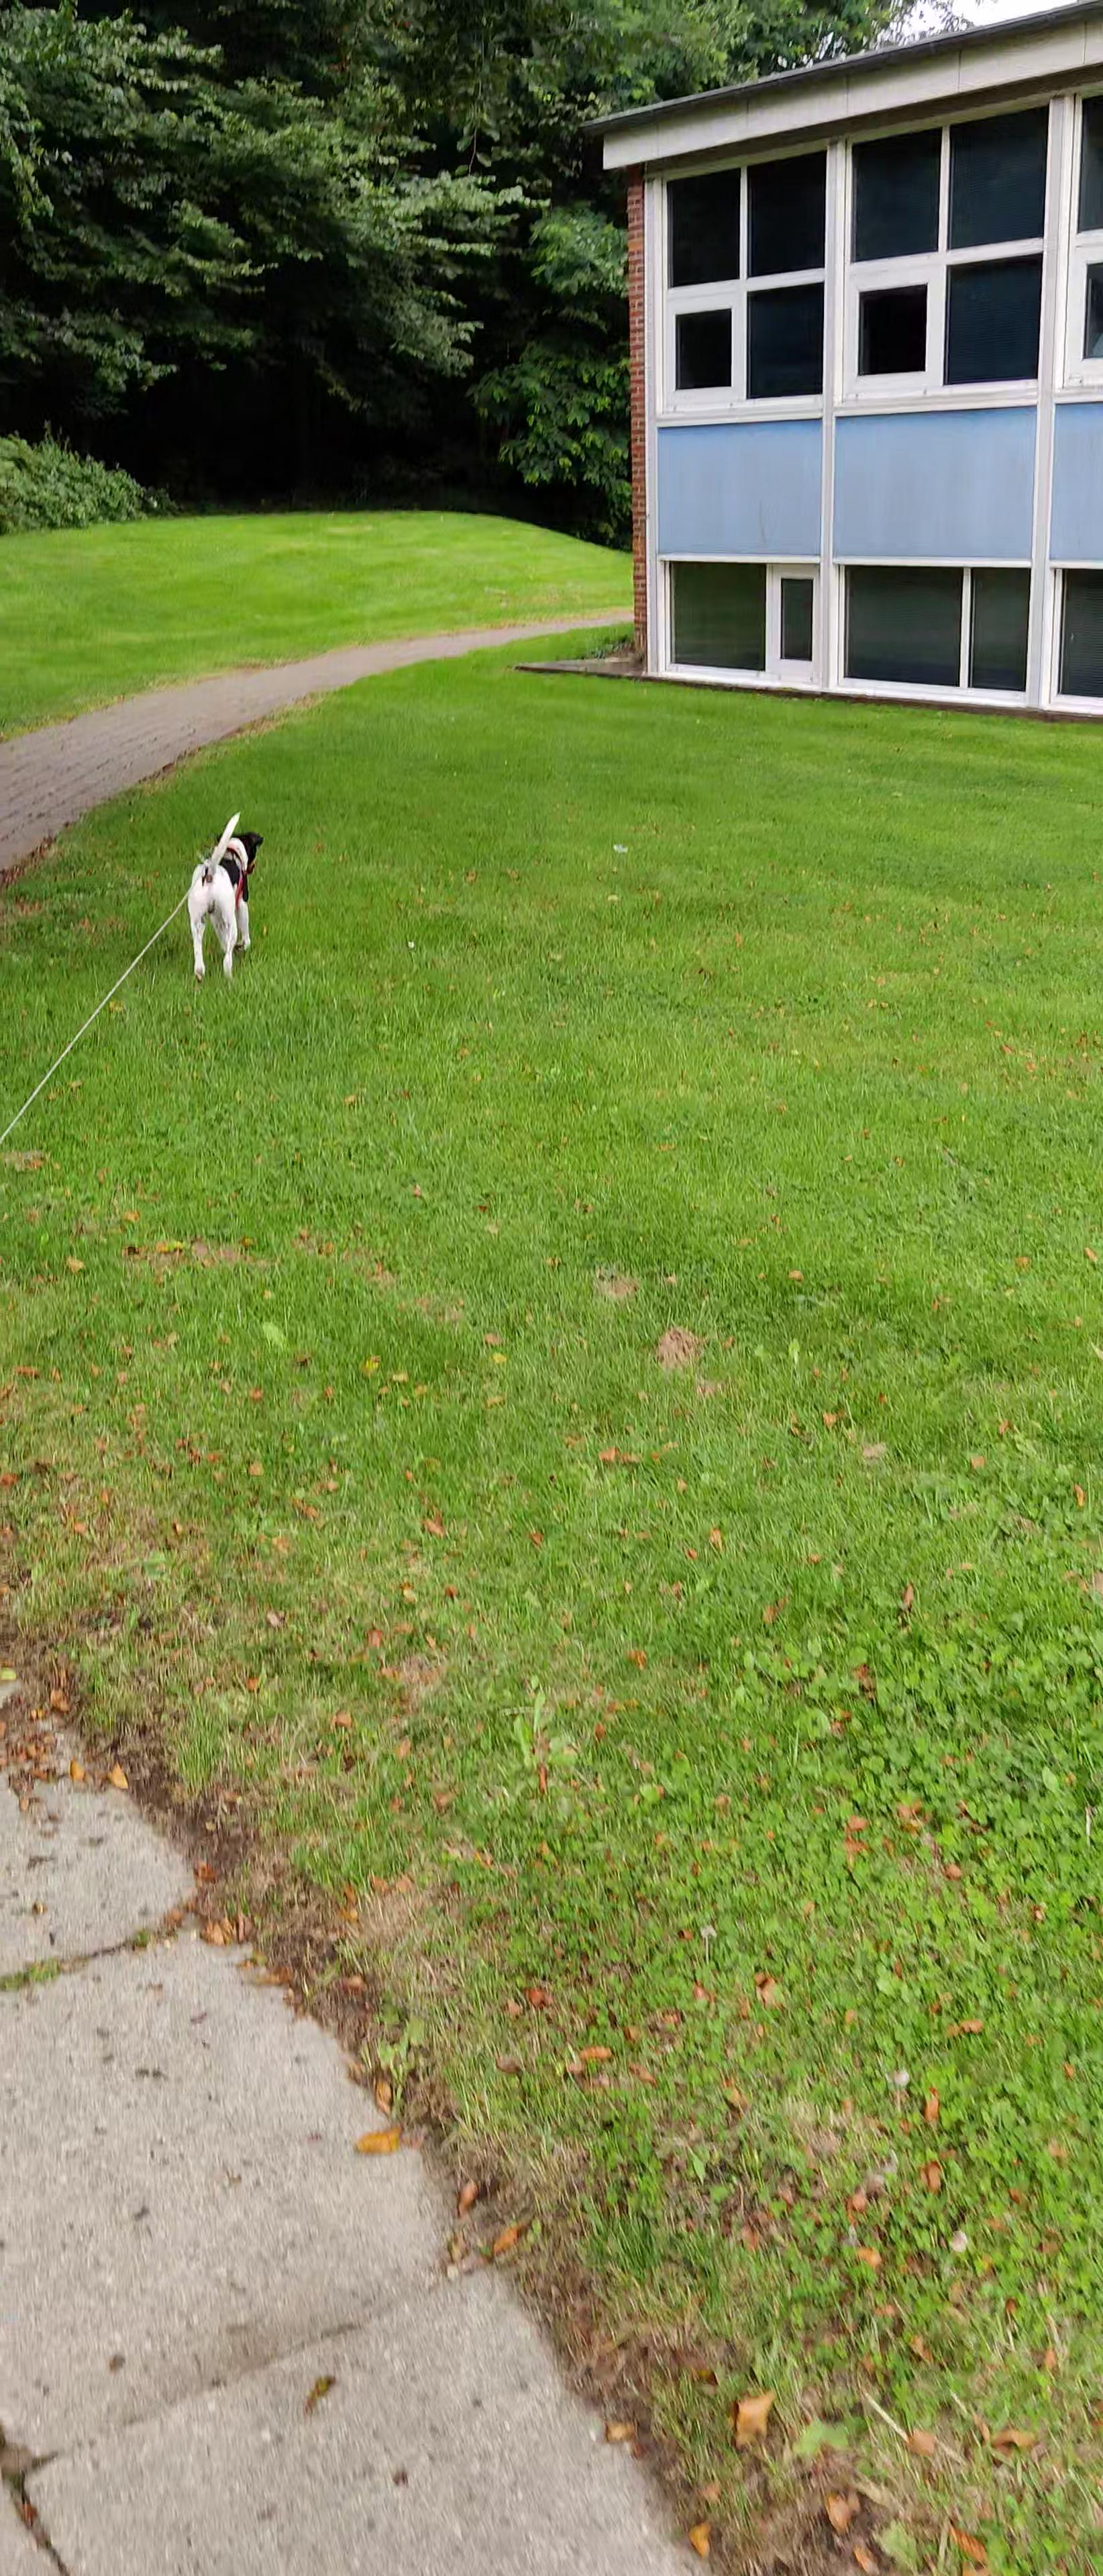Dog: (182, 808, 266, 984)
